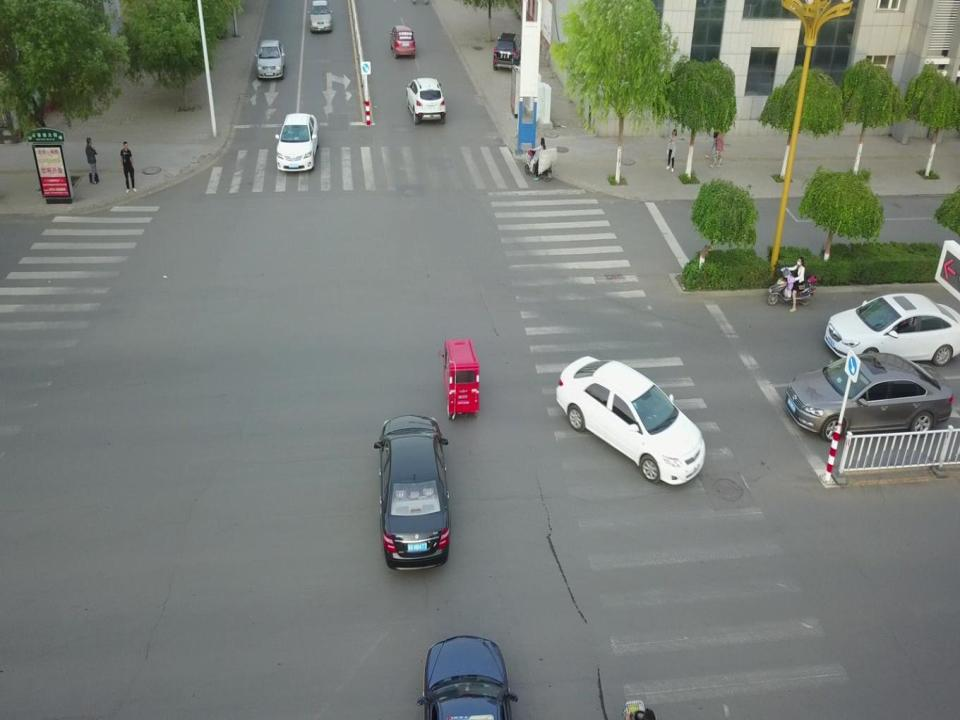car: (555, 354, 706, 487), (785, 352, 953, 440), (373, 414, 449, 570), (825, 294, 960, 366), (418, 636, 518, 720), (275, 113, 319, 171), (406, 77, 445, 125), (254, 39, 284, 79), (493, 32, 522, 72), (390, 25, 415, 58), (308, 0, 332, 32)
